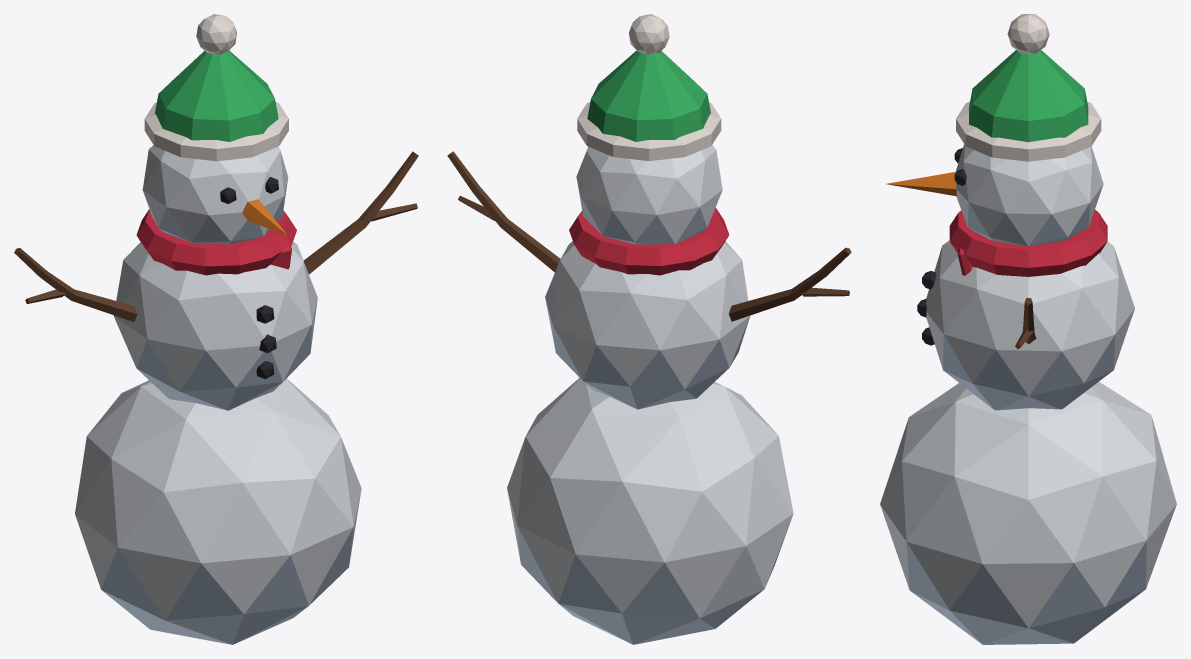
The model's file is Snowman_Small.glb.
3 renders of one model, left to right at view 1: azimuth 30°, elevation 25°; view 2: azimuth 150°, elevation 25°; view 3: azimuth 270°, elevation 25°, orthographic.
Parts seen in each view (by area): view 1: Snowman_Small; view 2: Snowman_Small; view 3: Snowman_Small.
Boxes of the visible parts, box(x1,y1,x2,y2) form: Snowman_Small: box(14, 14, 418, 644); Snowman_Small: box(447, 14, 851, 644); Snowman_Small: box(880, 14, 1176, 644).
Size of the model in its own units: 2.45 by 3.58 by 1.55.
